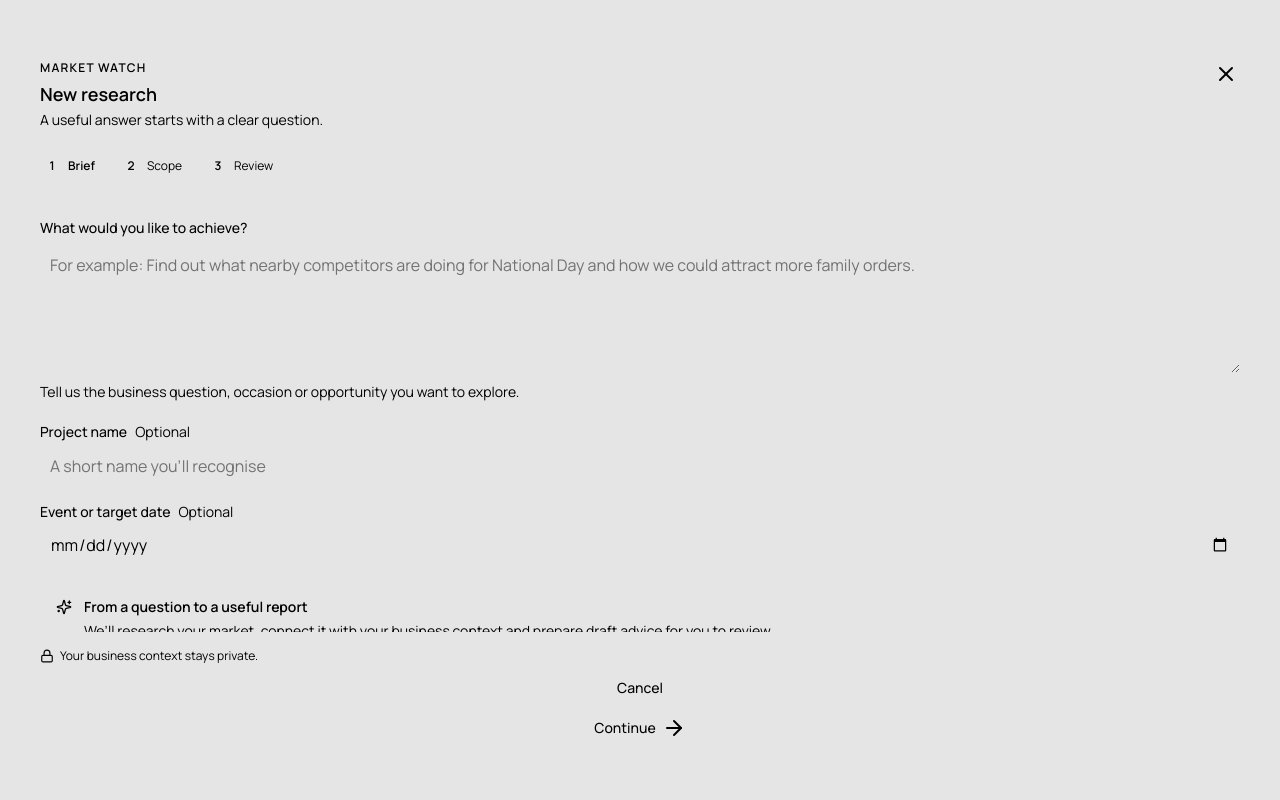
Test: NewResearchDialog brief step › keeps brief input when moving back from scope
Replace the text in the text box labelled "What would you like to achieve?" with "How should we prepare for National Day?" at (640, 309), box top-left (40, 245), bottom-right (1240, 373)
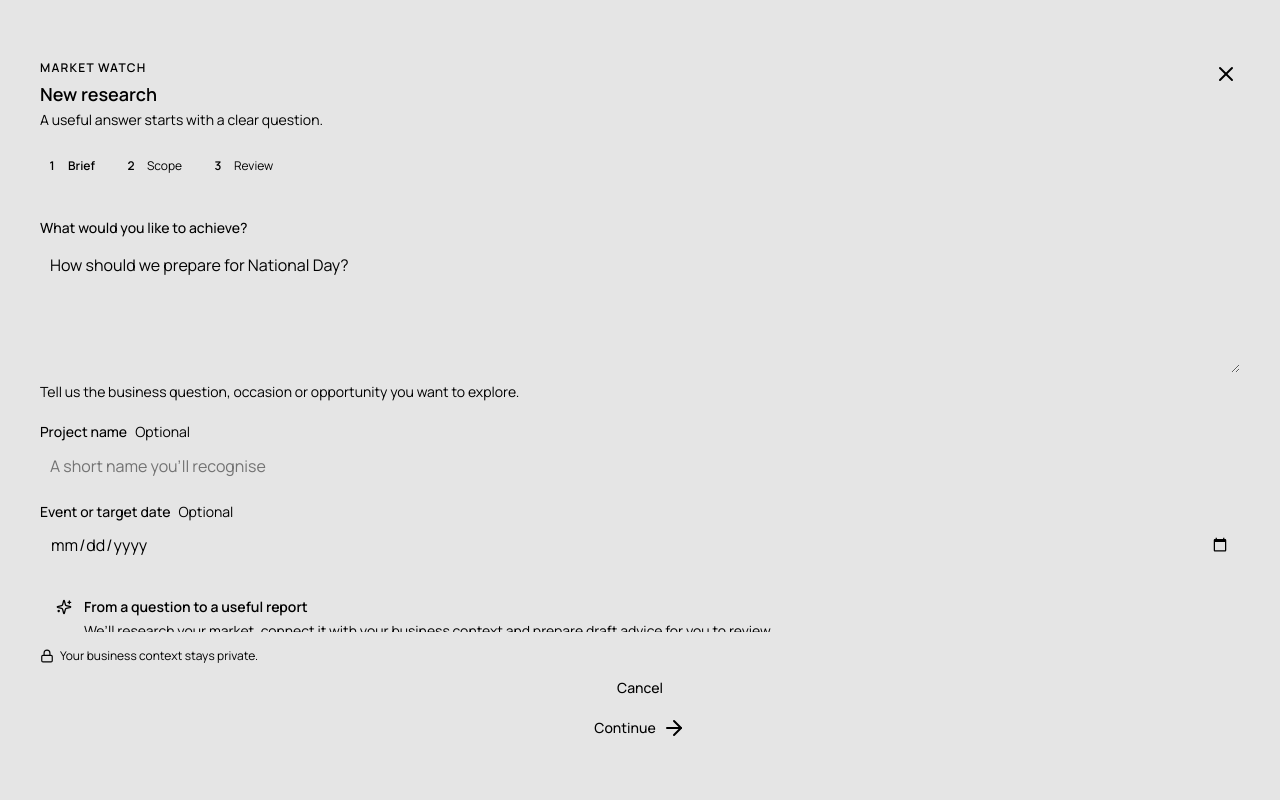
Click the button "Continue" at (640, 728), box top-left (40, 712), bottom-right (1240, 744)
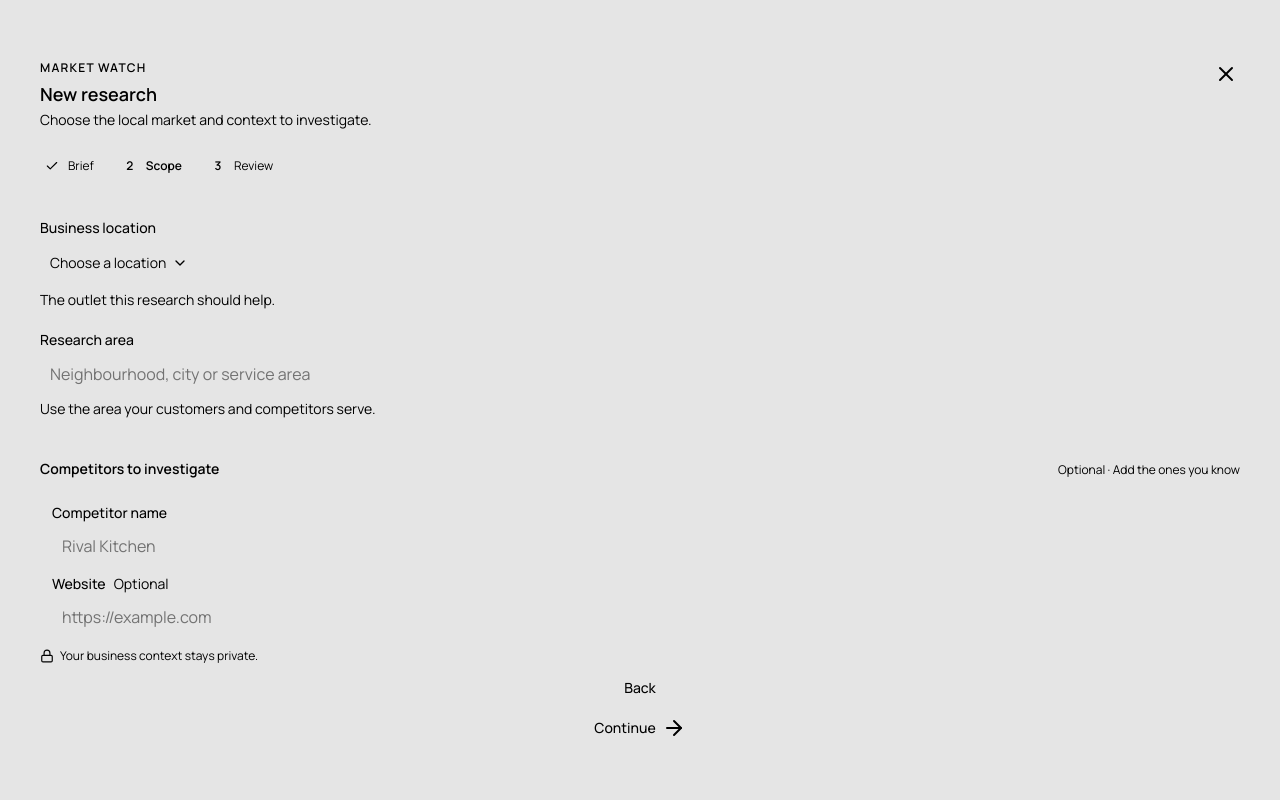
Result: the dropdown named "business location" is shown at top-left (40, 245), bottom-right (196, 281)
Click the button "Back" at (640, 688), box top-left (40, 672), bottom-right (1240, 704)
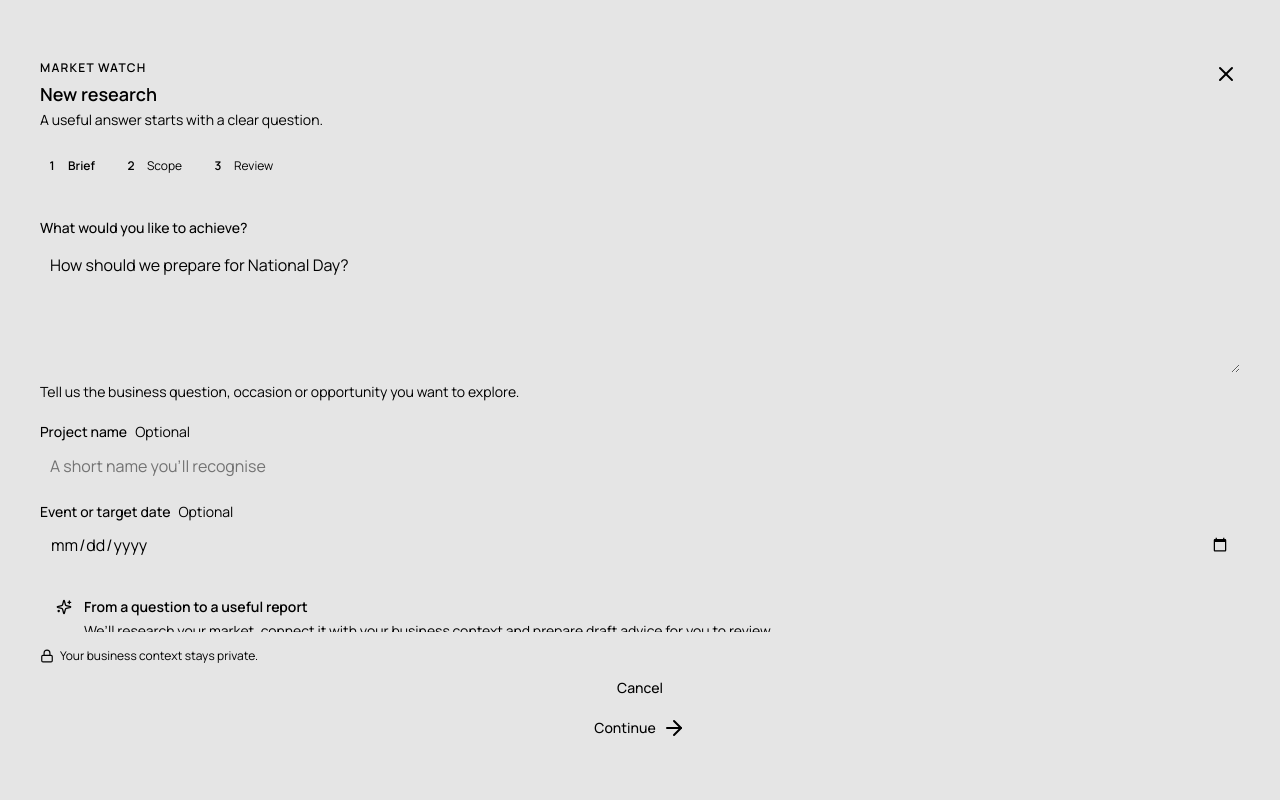
Result: the text box labelled "What would you like to achieve?" holds "How should we prepare for National Day?" at top-left (40, 245), bottom-right (1240, 373)
